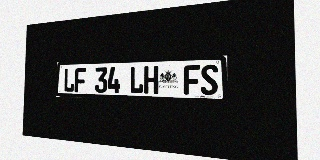3: (95, 67, 107, 93)
4: (107, 67, 120, 93)
F: (184, 65, 200, 95), (74, 68, 86, 92)
H: (144, 66, 158, 94)
L: (129, 66, 143, 94), (63, 68, 75, 92)
S: (201, 64, 218, 95)
